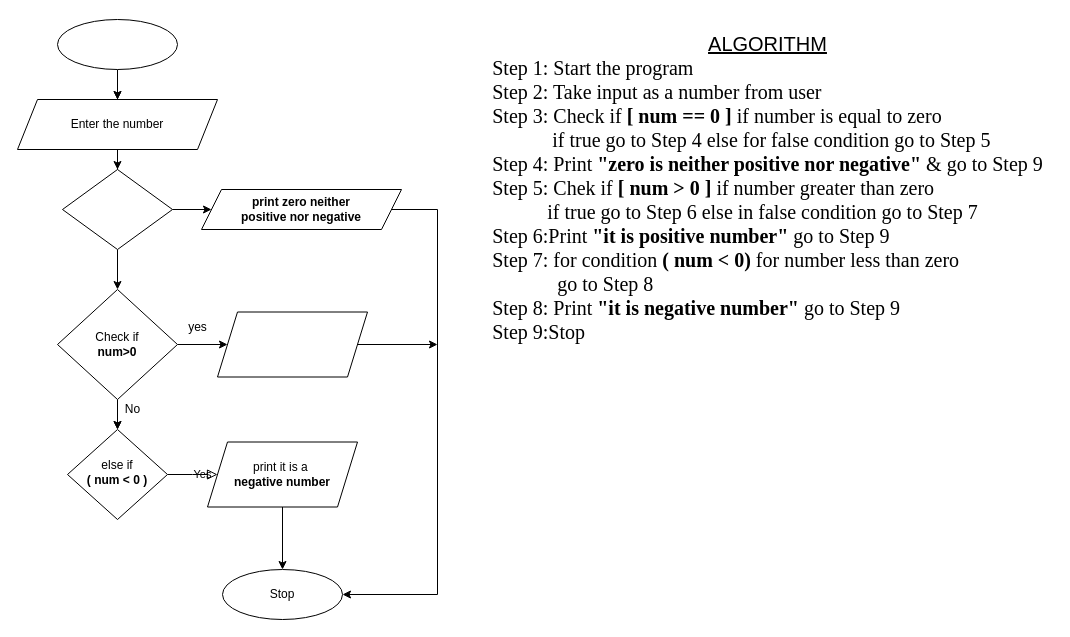
Image size: 1070x637. Some labels were removed from this diagram. Each missing label, with the box of its shape:
check if num == 0: (62, 168, 172, 250)
print it is a positive number: (216, 311, 368, 377)
Start: (56, 18, 178, 70)
